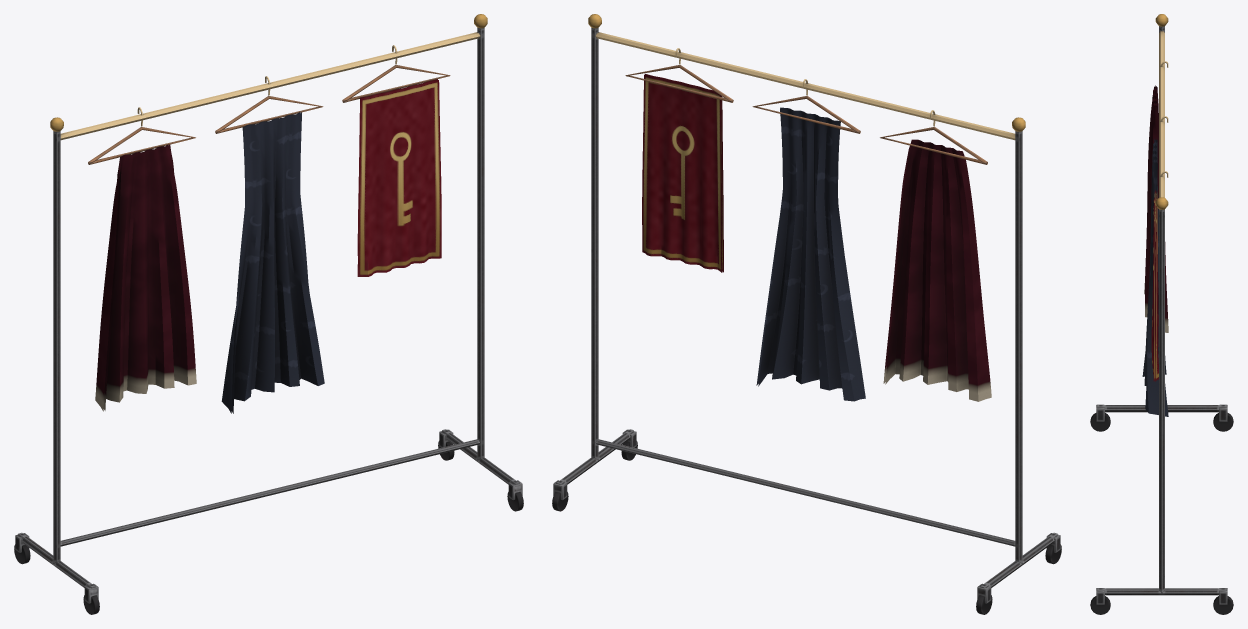
File: CostumeRack.fbx
3 views of the same model, side by side, from view 1: azimuth 30°, elevation 25°; view 2: azimuth 150°, elevation 25°; view 3: azimuth 270°, elevation 25° (orthographic). The views are drawn at different scales.
Visible parts, largest first — view 1: CostumeRack_Clothes, CostumeRack_Main; view 2: CostumeRack_Clothes, CostumeRack_Main; view 3: CostumeRack_Main, CostumeRack_Clothes.
Part boxes in pixels (left/top/right/bottom): CostumeRack_Clothes: left=95, top=79, right=441, bottom=413; CostumeRack_Main: left=14, top=14, right=523, bottom=614; CostumeRack_Clothes: left=642, top=74, right=991, bottom=401; CostumeRack_Main: left=552, top=14, right=1061, bottom=614; CostumeRack_Main: left=1090, top=14, right=1233, bottom=614; CostumeRack_Clothes: left=1142, top=85, right=1168, bottom=416.
Size of the model in its own units: 616 by 636 by 198.
